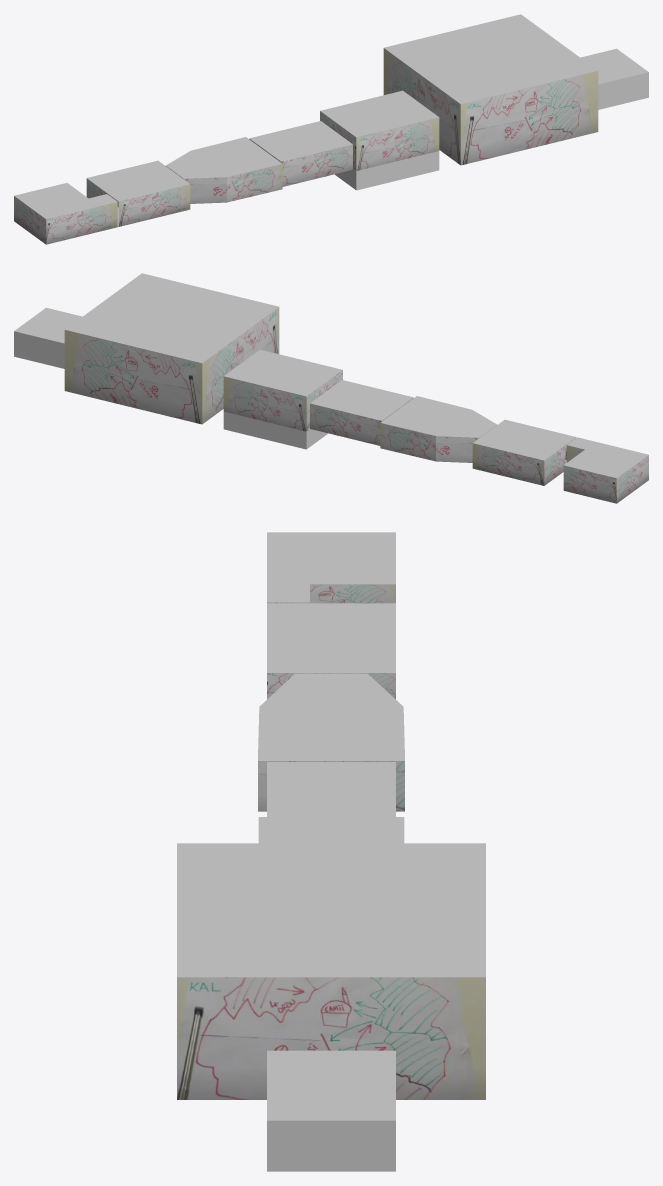
File: odalar2.fbx
The picture shows the model from 3 angles, top to bottom: view 1: azimuth 30°, elevation 25°; view 2: azimuth 150°, elevation 25°; view 3: azimuth 270°, elevation 25°; orthographic projection. The views are drawn at different scales.
Parts seen in each view (by area): view 1: Tavanlar, Oda6_duvar, Oda5_duvar, Oda1_duvar, Oda3_duvar, Oda2_duvar, Oda5_Altduvar, Oda4_duvar, Oda7_duvar; view 2: Tavanlar, Oda6_duvar, Oda5_duvar, Oda2_duvar, Oda3_duvar, Oda1_duvar, Oda4_duvar, Oda5_Altduvar, Oda7_duvar; view 3: Tavanlar, Oda6_duvar, Oda7_duvar, Oda1_duvar, Oda3_duvar.
Boxes of the visible parts, x1,y1,x2,y2 form: Tavanlar: (14, 14, 648, 219); Oda6_duvar: (383, 48, 598, 165); Oda5_duvar: (320, 111, 439, 170); Oda1_duvar: (14, 196, 117, 244); Oda3_duvar: (166, 164, 282, 203); Oda2_duvar: (86, 178, 190, 226); Oda5_Altduvar: (335, 151, 439, 190); Oda4_duvar: (249, 138, 352, 186); Oda7_duvar: (598, 72, 648, 109); Tavanlar: (14, 273, 648, 478); Oda6_duvar: (64, 307, 279, 424); Oda5_duvar: (223, 370, 342, 431); Oda2_duvar: (472, 437, 576, 485); Oda3_duvar: (380, 423, 496, 462); Oda1_duvar: (563, 445, 648, 503); Oda4_duvar: (310, 397, 413, 445); Oda5_Altduvar: (223, 411, 327, 449); Oda7_duvar: (14, 331, 64, 368); Tavanlar: (177, 532, 485, 1120); Oda6_duvar: (177, 977, 485, 1099); Oda7_duvar: (267, 1120, 395, 1171); Oda1_duvar: (267, 584, 395, 603); Oda3_duvar: (258, 761, 404, 811).
Size of the model in its own units: 12617 by 1615 by 2799.
